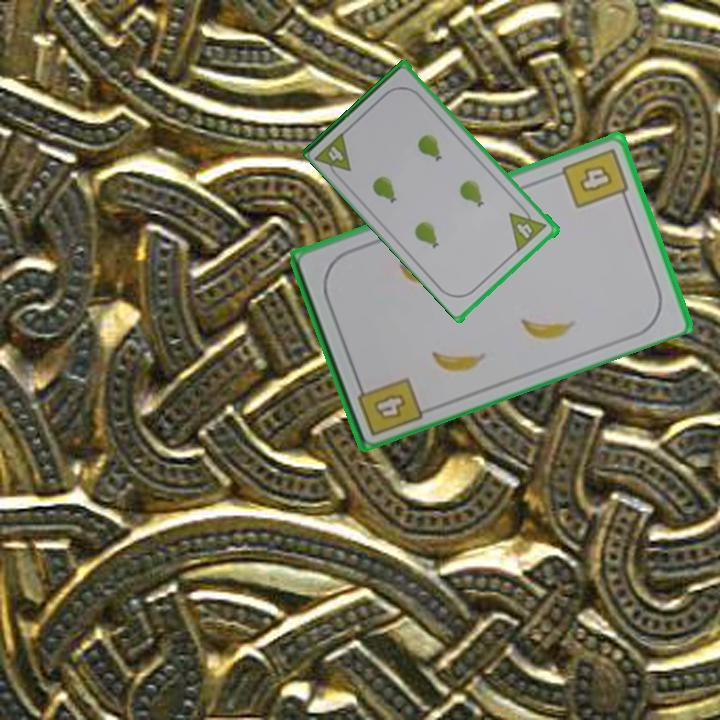4b: (558, 144, 632, 211), (353, 373, 425, 439)
4p: (312, 128, 355, 183), (506, 201, 550, 254)
